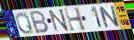1: (91, 6, 104, 30)
B: (29, 10, 50, 34)
H: (62, 7, 87, 33)
N: (97, 5, 122, 29), (48, 9, 71, 33)
Q: (15, 11, 36, 35)
